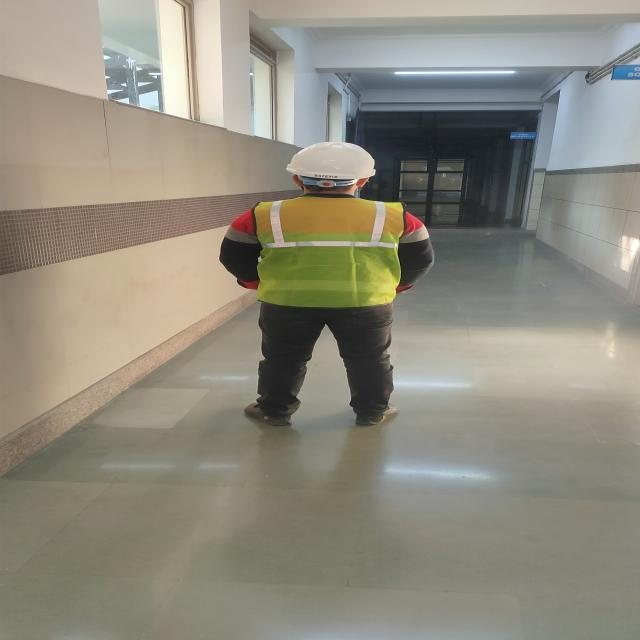safe: (219, 142, 431, 424)
